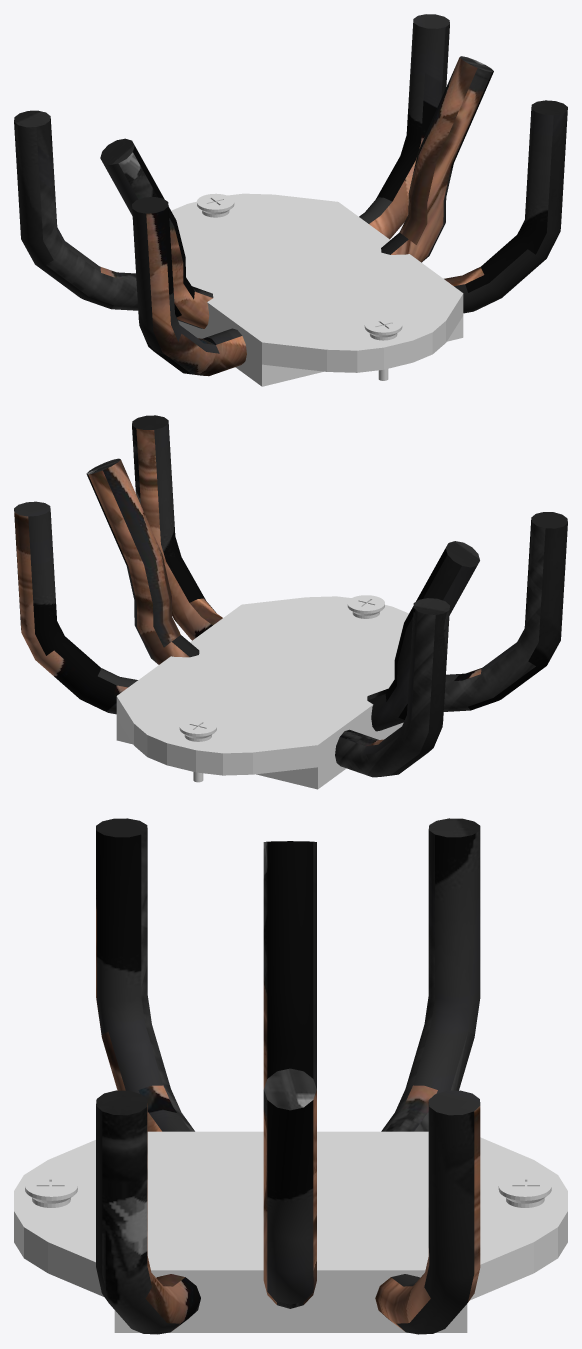
File: cooler_base.glb
The picture shows the model from 3 angles, top to bottom: view 1: azimuth 30°, elevation 25°; view 2: azimuth 150°, elevation 25°; view 3: azimuth 270°, elevation 25°; orthographic projection. The views are drawn at different scales.
Parts seen in each view (by area): view 1: defaultMaterial.002, basis; view 2: defaultMaterial.002, basis; view 3: defaultMaterial.002, basis.
Boxes of the visible parts, x1,y1,x2,y2 form: defaultMaterial.002: [14, 14, 567, 376]; basis: [171, 193, 463, 386]; defaultMaterial.002: [14, 415, 567, 777]; basis: [116, 595, 408, 789]; defaultMaterial.002: [96, 818, 480, 1334]; basis: [14, 1131, 567, 1332].
Bounding box in the file's own units: 3.36 × 1.62 × 2.65.
Materials: 2 (1 with a texture image).
